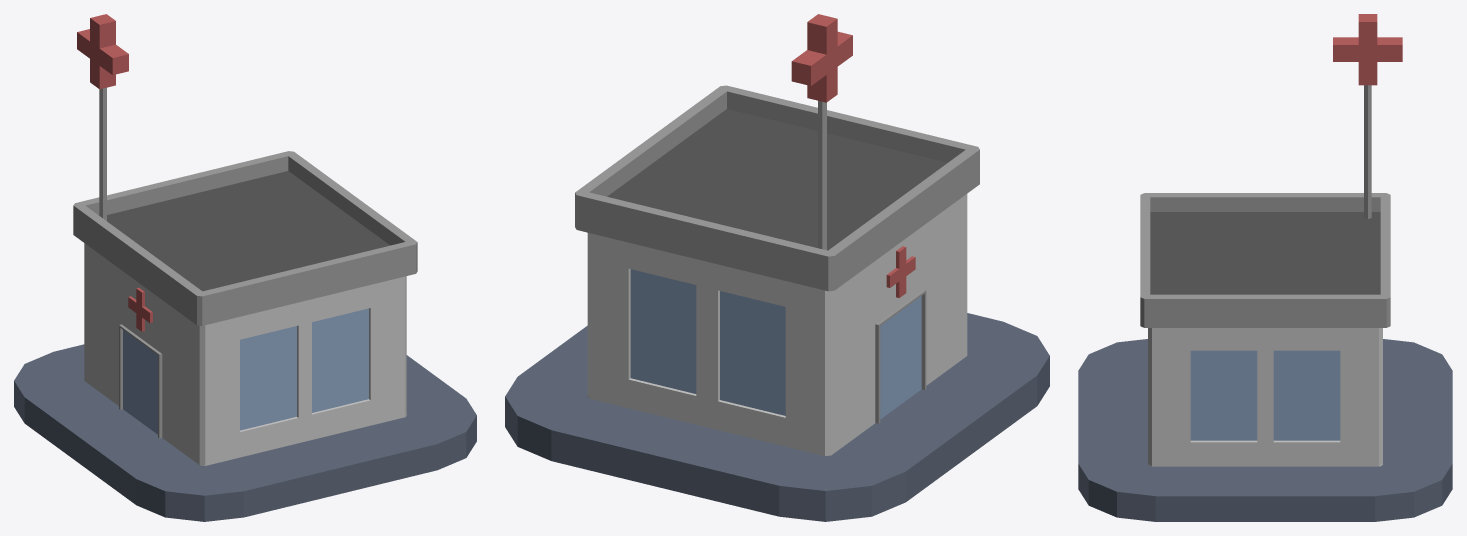
File: Clinic.fbx
The picture shows the model from 3 angles, left to right: view 1: azimuth 30°, elevation 25°; view 2: azimuth 150°, elevation 25°; view 3: azimuth 270°, elevation 25°; orthographic projection. The views are drawn at different scales.
Visible parts, largest first — view 1: Clinic; view 2: Clinic; view 3: Clinic.
Part boxes in pixels (box(x1,y1,x2,y2)): Clinic: box(14, 14, 476, 521); Clinic: box(505, 14, 1049, 521); Clinic: box(1078, 14, 1452, 521).
Bounding box in the file's own units: 11.7 × 13.16 × 11.7.
